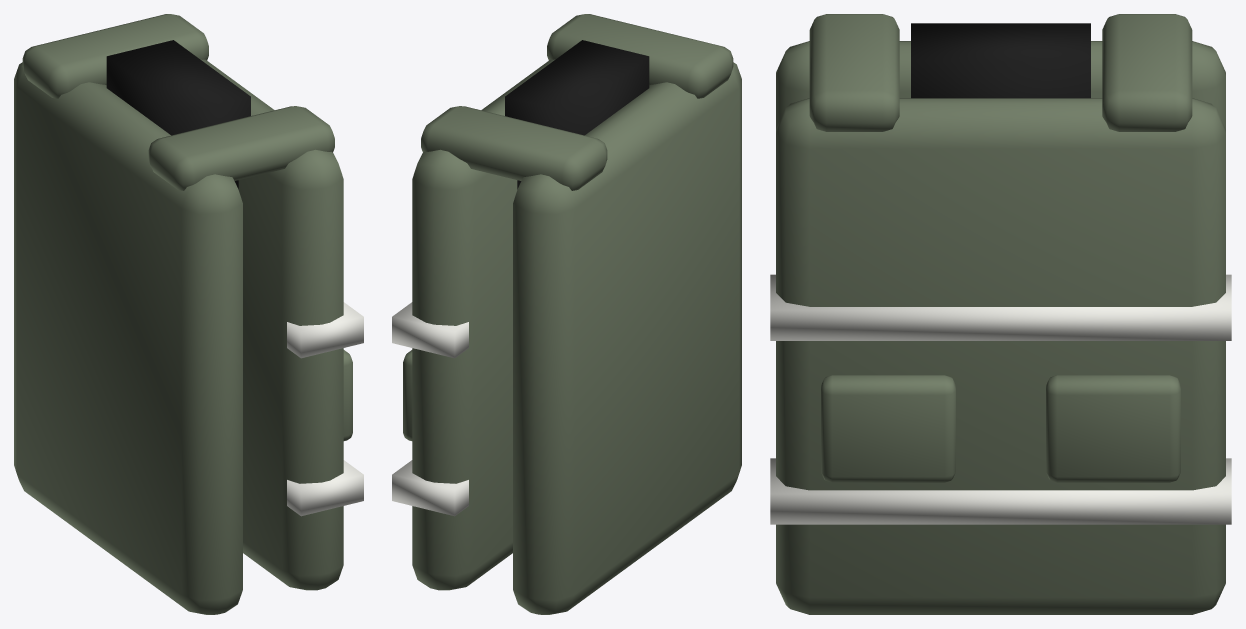
File: SM_Vest.fbx
The picture shows the model from 3 angles, left to right: view 1: azimuth 30°, elevation 25°; view 2: azimuth 150°, elevation 25°; view 3: azimuth 270°, elevation 25°; orthographic projection. The views are drawn at different scales.
Visible parts, largest first — view 1: SM_Vest; view 2: SM_Vest; view 3: SM_Vest.
Part boxes in pixels (left/top/right/bottom): SM_Vest: left=14, top=14, right=363, bottom=614; SM_Vest: left=392, top=14, right=741, bottom=614; SM_Vest: left=770, top=14, right=1231, bottom=614.
Size of the model in its own units: 21.5 by 53 by 41.
